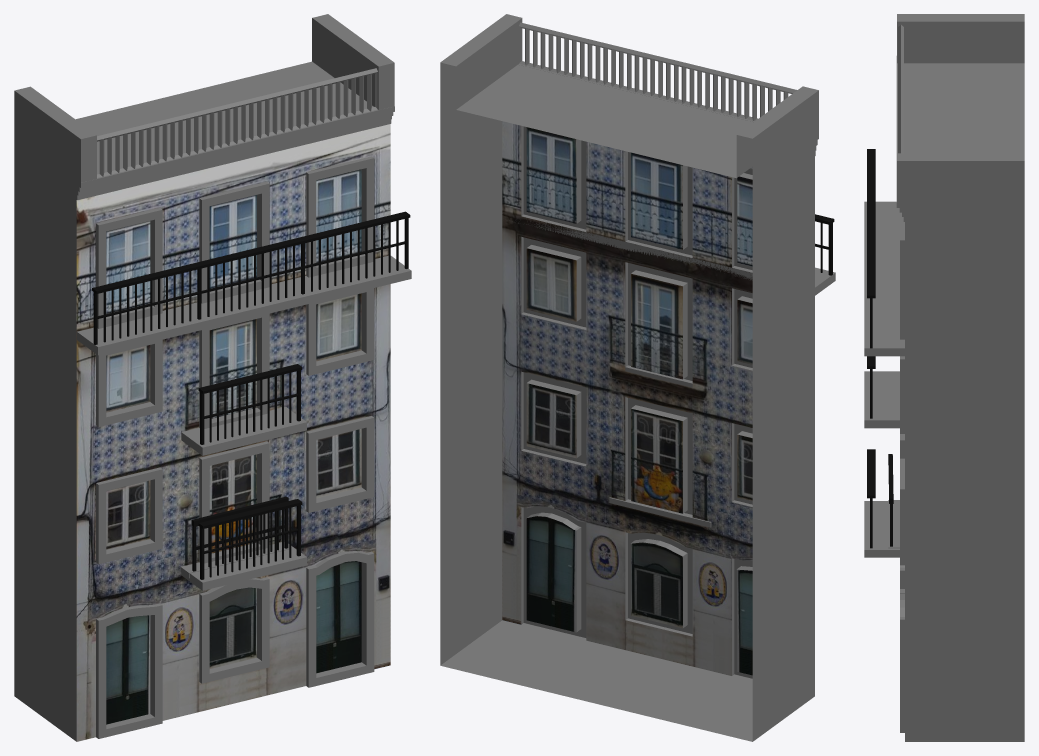
Rendered from 1930_40001821_Predio_04.fbx.
The picture shows the model from 3 angles, left to right: view 1: azimuth 30°, elevation 25°; view 2: azimuth 150°, elevation 25°; view 3: azimuth 270°, elevation 25°; orthographic projection. The views are drawn at different scales.
Visible parts, largest first — view 1: 1930_40001821_Predio_04; view 2: 1930_40001821_Predio_04; view 3: 1930_40001821_Predio_04.
Boxes of the visible parts, bbox=[...] form: 1930_40001821_Predio_04: bbox=[14, 14, 411, 741]; 1930_40001821_Predio_04: bbox=[440, 14, 835, 741]; 1930_40001821_Predio_04: bbox=[864, 14, 1024, 741].
Size of the model in its own units: 236 by 436 by 109.
Materials: 3 (1 with a texture image).
